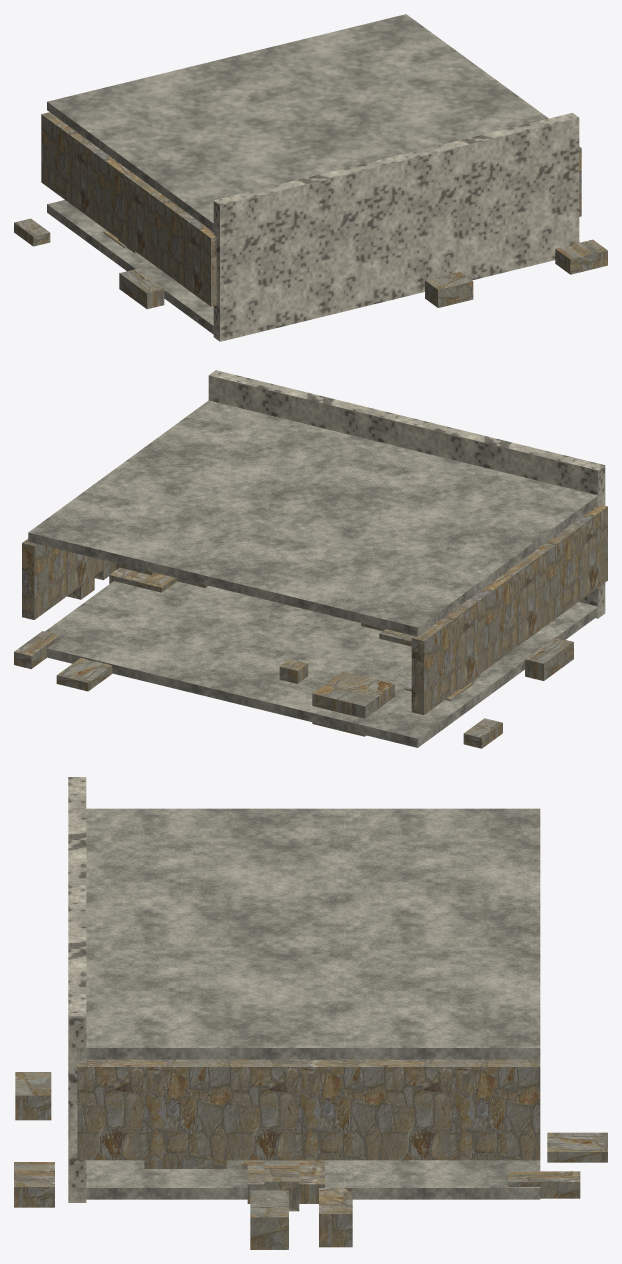
The model's file is Strategic_House_3.fbx.
3 views of the same model, one above another, from view 1: azimuth 30°, elevation 25°; view 2: azimuth 150°, elevation 25°; view 3: azimuth 270°, elevation 25° (orthographic). The views are drawn at different scales.
Parts seen in each view (by area): view 1: Strategic_House_3; view 2: Strategic_House_3; view 3: Strategic_House_3.
Part boxes in pixels (x1,y1,x2,y2): Strategic_House_3: (14,14,607,341); Strategic_House_3: (14,370,607,748); Strategic_House_3: (14,777,607,1249).
Size of the model in its own units: 1435 by 417 by 1154.
